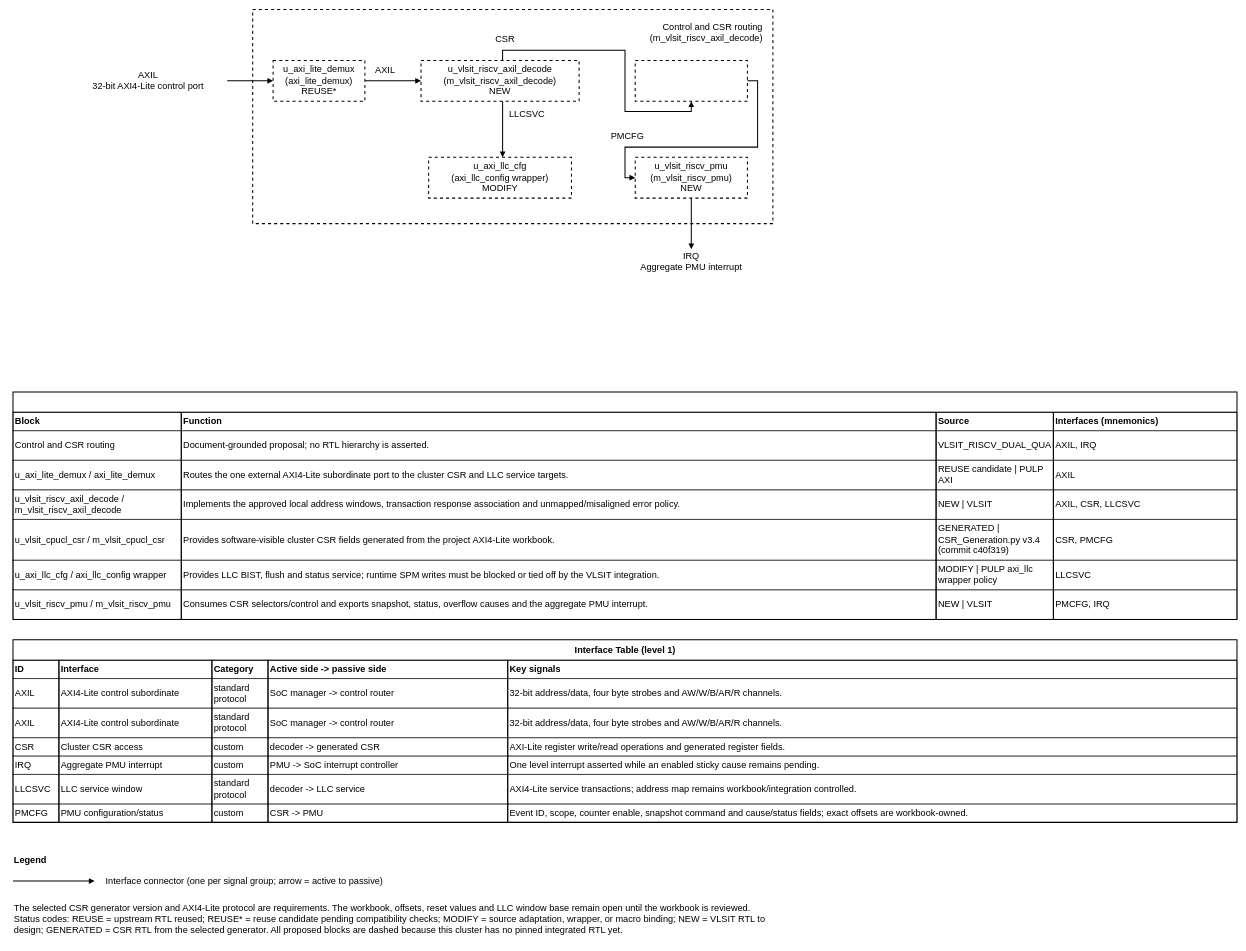
Some shapes in this 1246 by 951 pixel diagram are drawn without their labels. The box of each missing label's shape, as (x1, y1, x2, y2) in pixels:
Block Functions & Interfaces (level 1): (12, 391, 1237, 620)
u_vlsit_cpucl_csr (m_vlsit_cpucl_csr) GENERATED: (634, 60, 748, 101)
